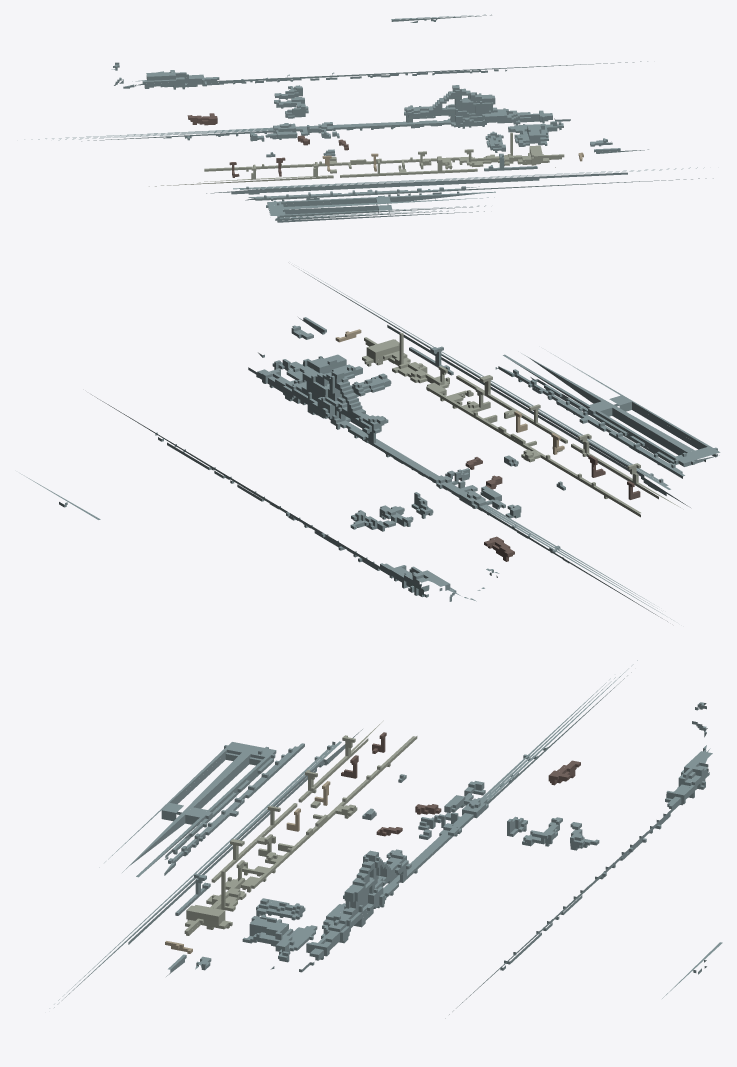
3 views of the same model, one above another, from view 1: azimuth 30°, elevation 25°; view 2: azimuth 150°, elevation 25°; view 3: azimuth 270°, elevation 25° (orthographic). The views are drawn at different scales.
Visible parts, largest first — view 1: measured-industrial; view 2: measured-industrial; view 3: measured-industrial.
Part boxes in pixels (x1=…): measured-industrial: x1=24, y1=14, x2=713, y2=222; measured-industrial: x1=20, y1=269, x2=720, y2=621; measured-industrial: x1=49, y1=660, x2=722, y2=1018.
Size of the model in its own units: 437 by 32.21 by 328.
